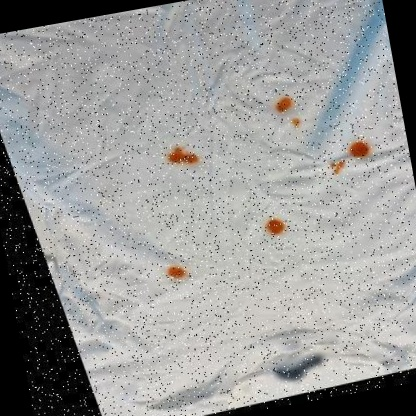kimchi: (162, 139, 200, 177), (344, 133, 370, 166), (260, 211, 288, 241), (272, 93, 296, 119), (325, 155, 346, 176), (165, 265, 184, 283), (290, 118, 303, 130)
